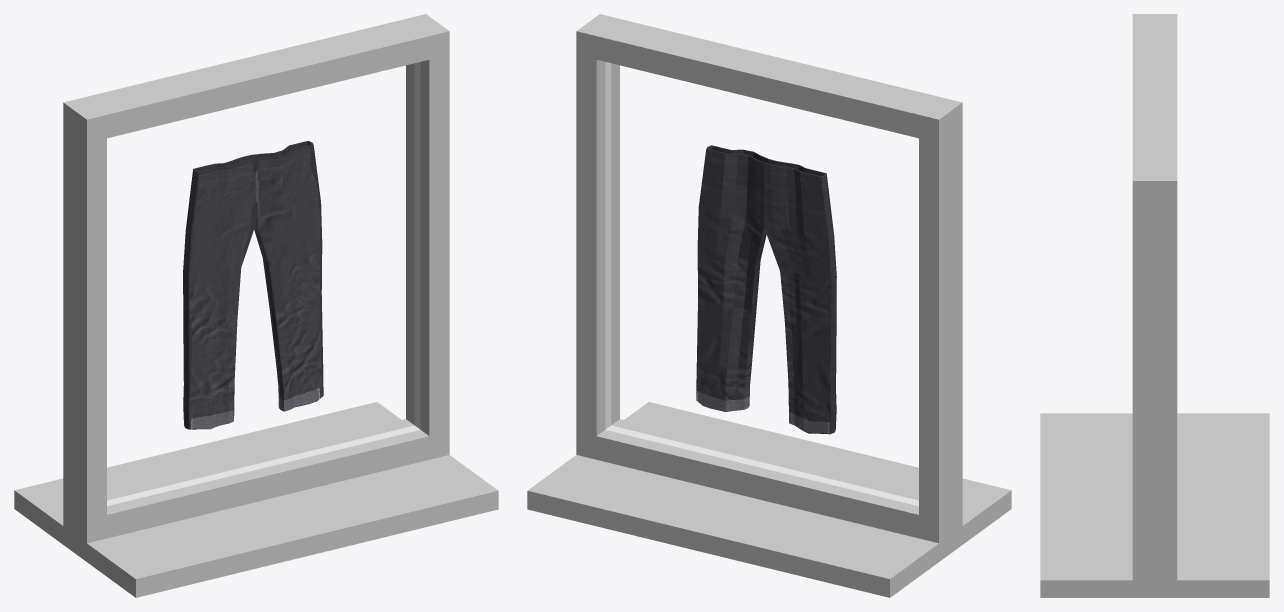
Rendered from crow_denim.glb.
The picture shows the model from 3 angles, left to right: view 1: azimuth 30°, elevation 25°; view 2: azimuth 150°, elevation 25°; view 3: azimuth 270°, elevation 25°; orthographic projection. The views are drawn at different scales.
Visible parts, largest first — view 1: Cube.033, Plane.029; view 2: Cube.033, Plane.029; view 3: Cube.033.
Part boxes in pixels (x1=…): Cube.033: x1=14, y1=14, x2=498, y2=597; Plane.029: x1=183, y1=141, x2=323, y2=429; Cube.033: x1=527, y1=14, x2=1011, y2=597; Plane.029: x1=696, y1=145, x2=836, y2=434; Cube.033: x1=1040, y1=14, x2=1269, y2=597.
Size of the model in its own units: 0.6242 by 0.7276 by 0.362.
3 materials, 1 textured.
